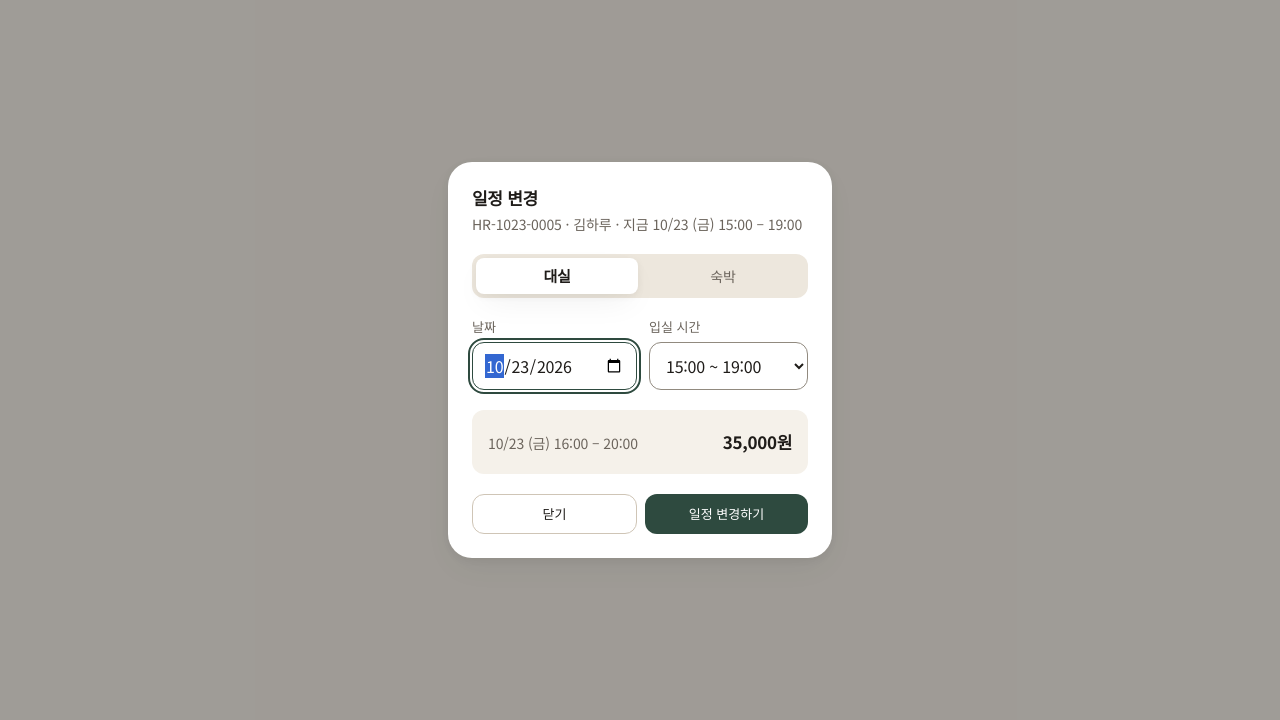
Test: BookingDialog › re-checks availability after the server rejects the slot
Click the button "일정 변경하기": (726, 514) [645,494,808,534]
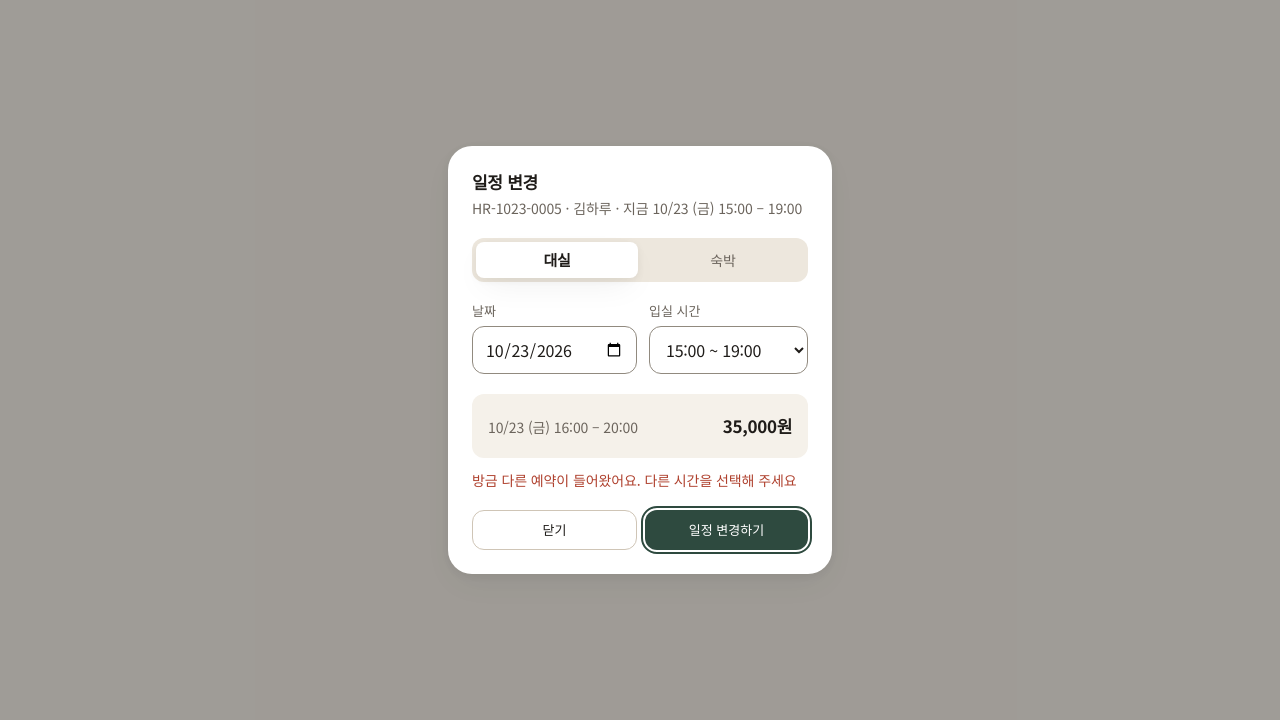
Expected: the message "방금 다른 예약이 들어왔어요. 다른 시간을 선택해 주세요" is shown, [472,470,808,490]
